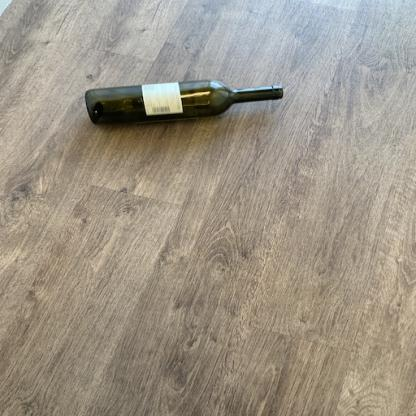trash: (83, 81, 286, 127)
